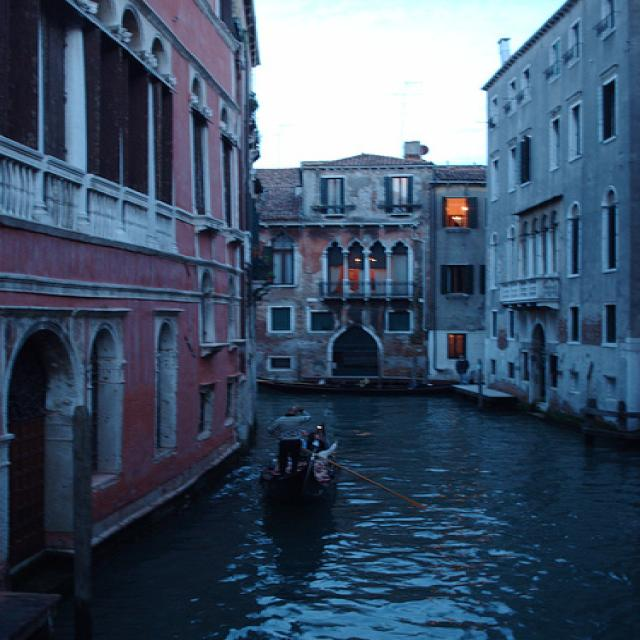Boat: (236, 435, 367, 544)
People: (277, 401, 320, 473)
